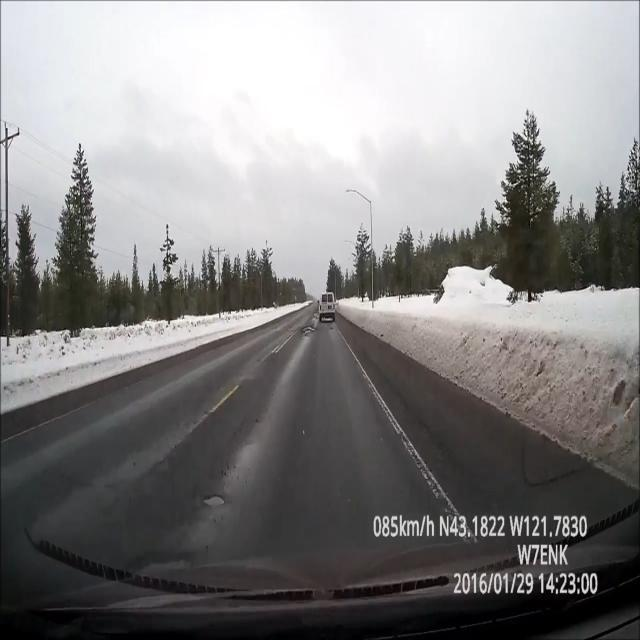pothole: (298, 319, 318, 349)
